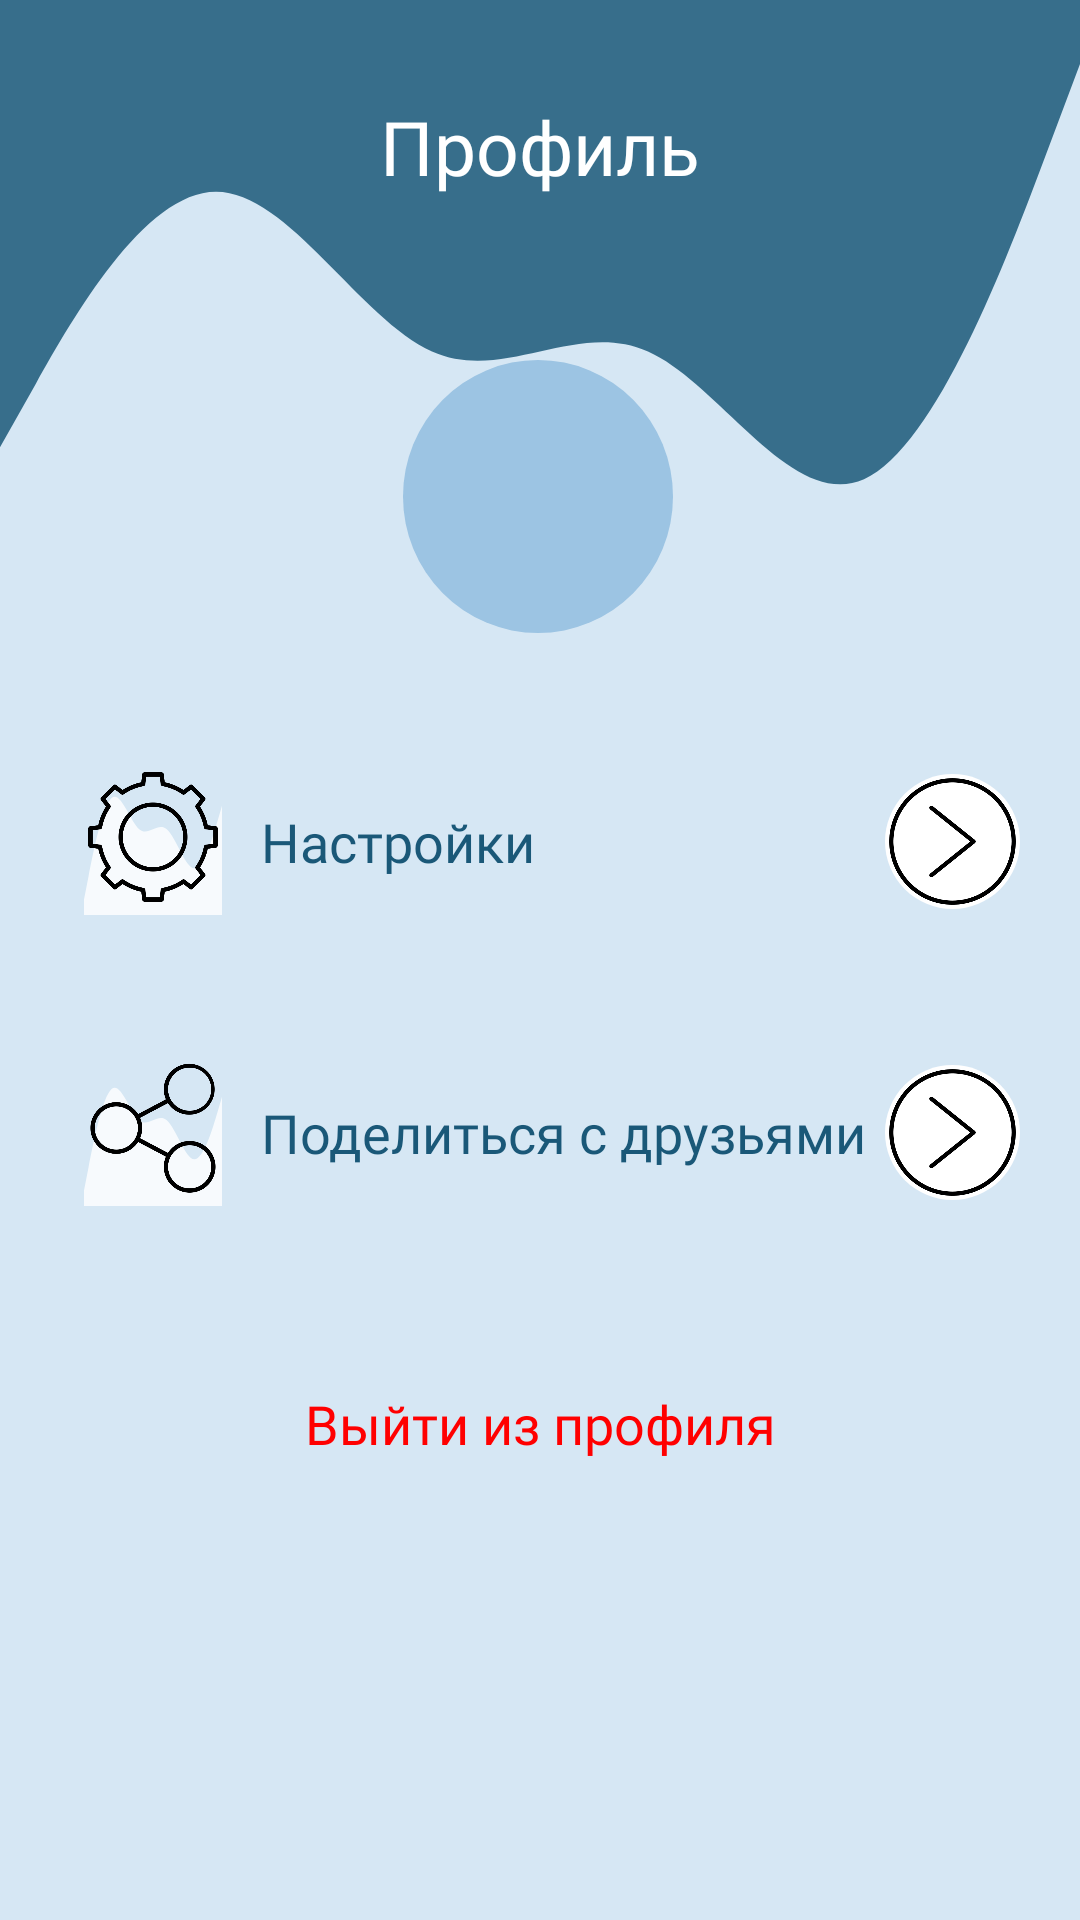

Icons on this 1080px x 1920px Android screen, each with the point to tap as (x=x, y=y):
management settings: (x=153, y=843)
next: (x=952, y=841), (x=952, y=1132)
share: (x=153, y=1135)
